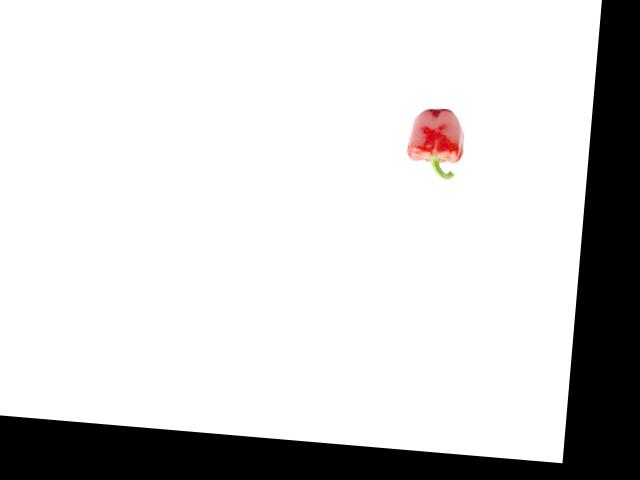bell_pepper: (401, 103, 470, 182)
